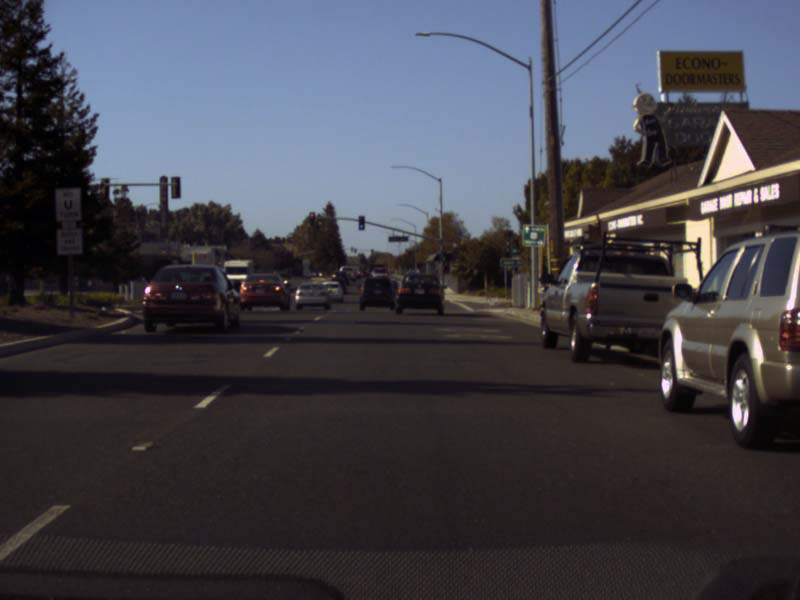Green: (510, 237, 518, 256), (358, 216, 364, 231)
Red: (309, 211, 314, 226)
